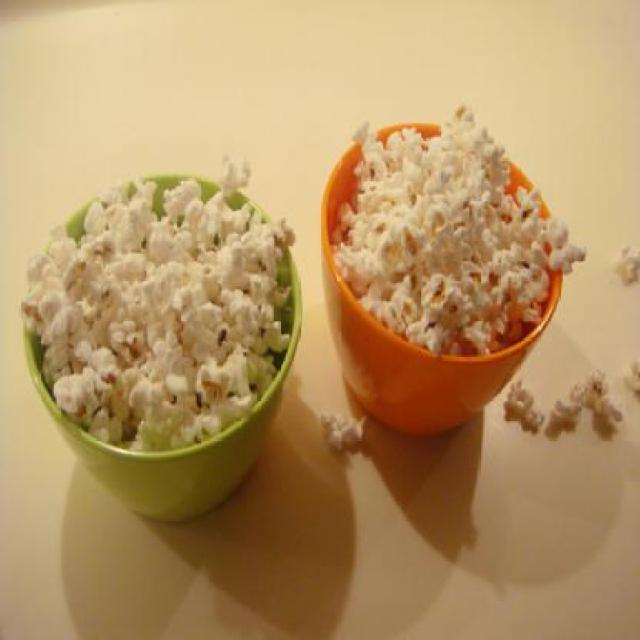Popcorn: (10, 160, 292, 454), (332, 120, 585, 357), (324, 404, 372, 452), (504, 376, 544, 427), (570, 364, 610, 406), (546, 387, 582, 427), (598, 392, 628, 432), (618, 242, 640, 280), (622, 357, 640, 392)
